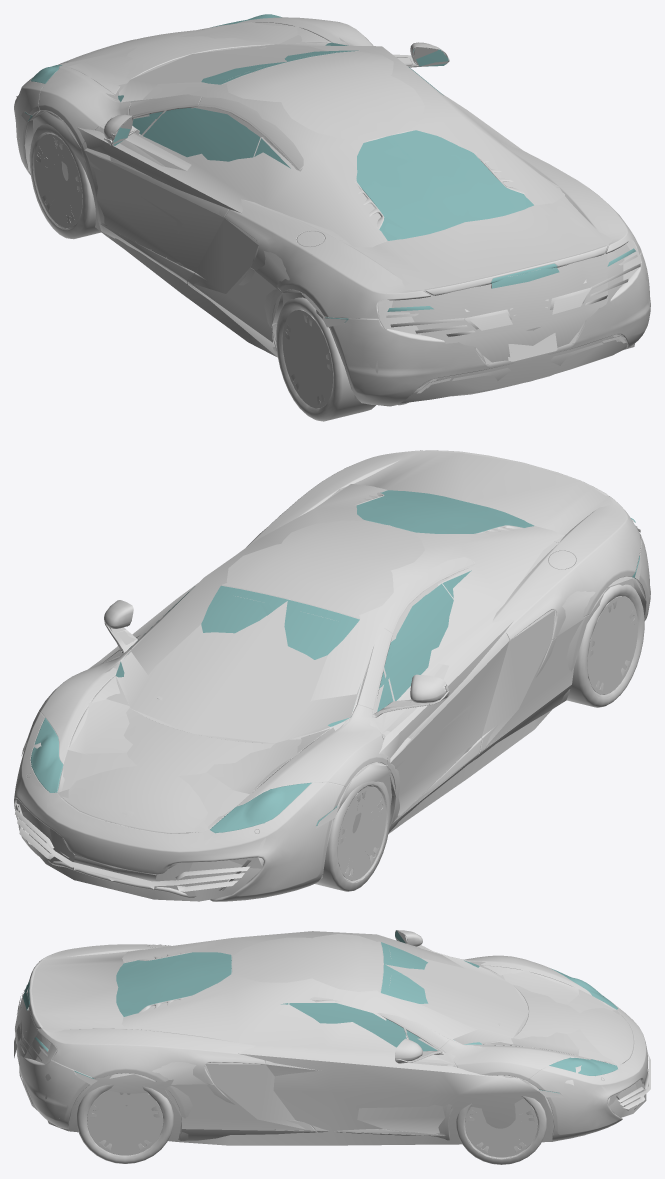
The model's file is mclaren__mp4-12c.glb.
3 views of the same model, one above another, from view 1: azimuth 30°, elevation 25°; view 2: azimuth 150°, elevation 25°; view 3: azimuth 270°, elevation 25° (orthographic). The views are drawn at different scales.
Parts seen in each view (by area): view 1: Object_12, Object_13, Object_25, Object_14, Object_21, Object_3, Object_22; view 2: Object_12, Object_13, Object_25, Object_14, Object_21, Object_3, Object_22; view 3: Object_12, Object_25, Object_13, Object_14, Object_21, Object_3, Object_22.
Part boxes in pixels (bbox=[...]): Object_12: bbox=[14, 17, 650, 405]; Object_13: bbox=[16, 22, 649, 403]; Object_25: bbox=[33, 37, 647, 406]; Object_14: bbox=[24, 14, 635, 322]; Object_21: bbox=[35, 135, 331, 406]; Object_3: bbox=[29, 124, 375, 421]; Object_22: bbox=[34, 134, 333, 408]; Object_12: bbox=[14, 450, 650, 901]; Object_13: bbox=[15, 450, 645, 901]; Object_25: bbox=[24, 484, 634, 879]; Object_14: bbox=[30, 490, 639, 833]; Object_21: bbox=[338, 598, 637, 878]; Object_3: bbox=[315, 584, 644, 891]; Object_22: bbox=[338, 596, 637, 880]; Object_12: bbox=[19, 930, 647, 1140]; Object_25: bbox=[15, 931, 585, 1145]; Object_13: bbox=[15, 931, 650, 1140]; Object_14: bbox=[22, 942, 617, 1093]; Object_21: bbox=[88, 1091, 536, 1156]; Object_3: bbox=[77, 1084, 546, 1164]; Object_22: bbox=[87, 1090, 537, 1157].
Size of the model in its own units: 2.1 by 1.21 by 4.54.
